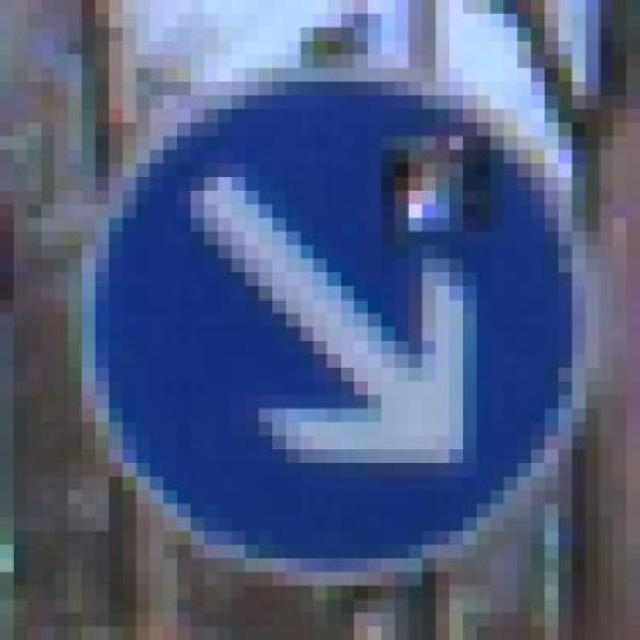Keep-Right: (55, 41, 613, 599)
